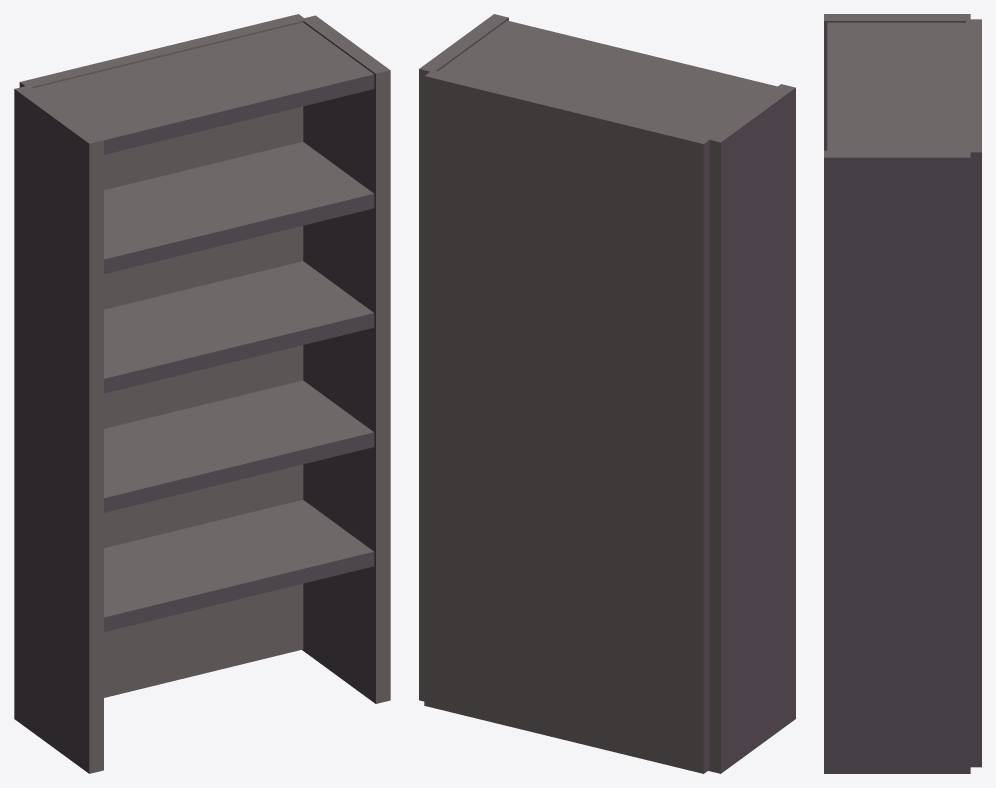
Rendered from Bookshelf Empty.fbx.
The picture shows the model from 3 angles, left to right: view 1: azimuth 30°, elevation 25°; view 2: azimuth 150°, elevation 25°; view 3: azimuth 270°, elevation 25°; orthographic projection. The views are drawn at different scales.
Parts seen in each view (by area): view 1: Bookshelf Empty; view 2: Bookshelf Empty; view 3: Bookshelf Empty.
Boxes of the visible parts, <box> form: Bookshelf Empty: <box>14,14,390,773</box>; Bookshelf Empty: <box>419,14,795,773</box>; Bookshelf Empty: <box>824,14,981,773</box>.
Size of the model in its own units: 197 by 395 by 91.69.
